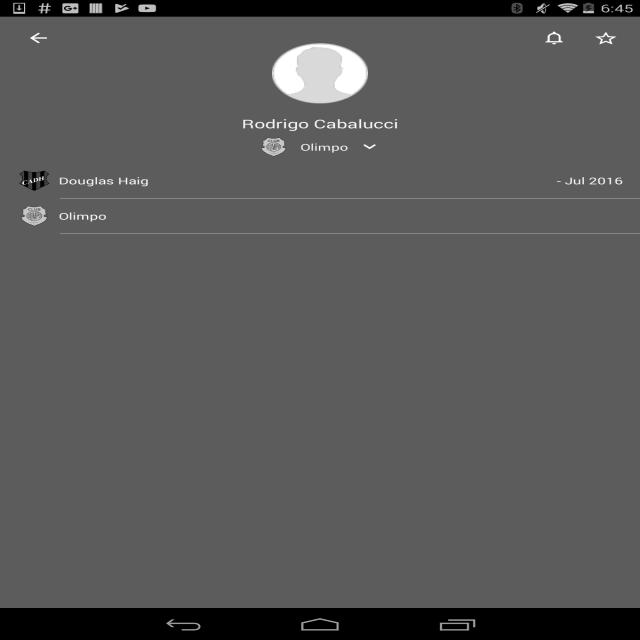ImageButton: (9, 17, 68, 59)
ImageView: (272, 44, 368, 104), (17, 205, 51, 227), (17, 170, 51, 191), (258, 137, 290, 157), (357, 139, 382, 155)
TextView: (53, 207, 623, 225), (53, 172, 553, 190), (242, 115, 398, 132), (580, 22, 632, 54), (529, 22, 580, 54), (553, 172, 623, 190), (301, 137, 348, 157)
